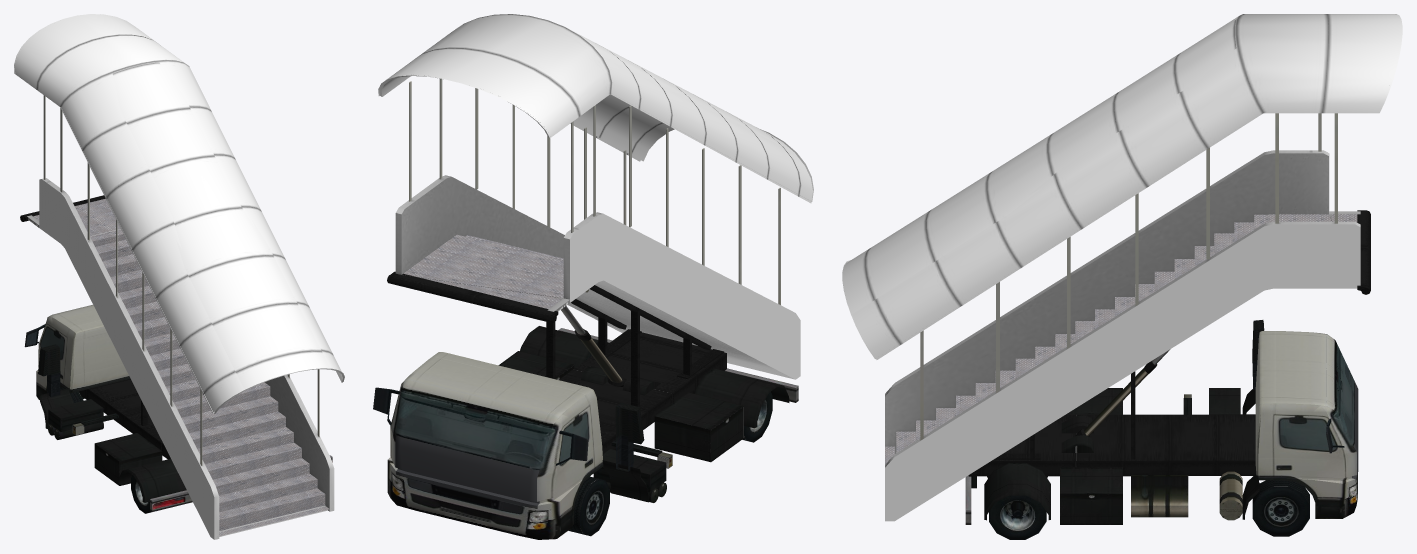
File: stairs.glb
3 renders of one model, left to right at view 1: azimuth 30°, elevation 25°; view 2: azimuth 150°, elevation 25°; view 3: azimuth 270°, elevation 25°, orthographic. The views are drawn at different scales.
Parts seen in each view (by area): view 1: cover, cover-under, object 36, object 35, paint, block, Cube.003, Cube.004, Cube, cover-rods, Cylinder.4, Cube.008 (+3 smaller); view 2: Cube.003, cover, paint, block, object 35, Cube.004, cover-rods, Cube, cover-under, Cylinder.4, cylinder, Cylinder.8 (+13 smaller); view 3: cover, paint, block, cover-under, Cube.003, Cube.004, object 35, Cube.007, cover-rods, Cylinder.8, Cylinder.6, Cylinder.4 (+7 smaller).
Boxes of the visible parts, box(x1,y1,x2,y2) form: cover: box(14, 14, 341, 413); cover-under: box(100, 14, 344, 413); object 36: box(93, 234, 325, 530); object 35: box(33, 198, 329, 535); paint: box(39, 179, 214, 539); block: box(27, 178, 334, 539); Cube.003: box(36, 304, 130, 399); Cube.004: box(79, 379, 170, 459); Cube: box(94, 433, 162, 485); cover-rods: box(43, 95, 319, 465); Cylinder.4: box(118, 458, 186, 502); Cube.008: box(48, 399, 103, 439); Cube.003: box(387, 352, 603, 539); cover: box(378, 14, 812, 203); paint: box(570, 214, 800, 379); block: box(395, 175, 794, 379); object 35: box(403, 234, 563, 308); Cube.004: box(559, 329, 726, 453); cover-rods: box(409, 78, 780, 304); Cube: box(654, 392, 743, 462); cover-under: box(379, 28, 813, 201); Cylinder.4: box(520, 326, 789, 428); cylinder: box(387, 271, 558, 322); Cylinder.8: box(568, 476, 609, 536); cover: box(852, 14, 1402, 359); paint: box(885, 151, 1360, 521); block: box(885, 150, 1360, 467); cover-under: box(842, 20, 1236, 358); Cube.003: box(1255, 331, 1358, 518); Cube.004: box(970, 414, 1255, 476); object 35: box(885, 214, 1357, 464); Cube.007: box(1060, 467, 1122, 524); cover-rods: box(920, 113, 1337, 440); Cylinder.8: box(1252, 480, 1309, 536); Cylinder.6: box(1131, 475, 1188, 517); Cylinder.4: box(984, 463, 1050, 520).
Bounding box in the file's own units: 3.18 × 6.05 × 6.66.
Materials: 3 (3 with a texture image).
